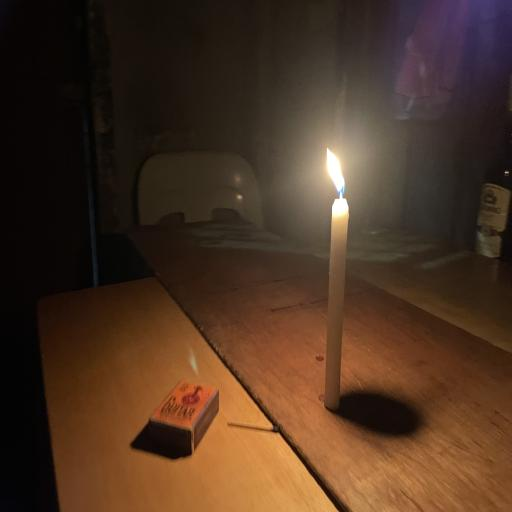fire: (308, 133, 362, 209)
